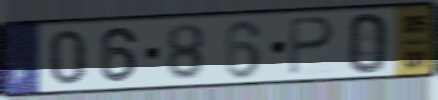0: (345, 11, 390, 76), (45, 28, 90, 87)
6: (223, 17, 264, 81), (98, 25, 141, 85)
8: (163, 22, 210, 81)
P: (287, 15, 338, 78)
